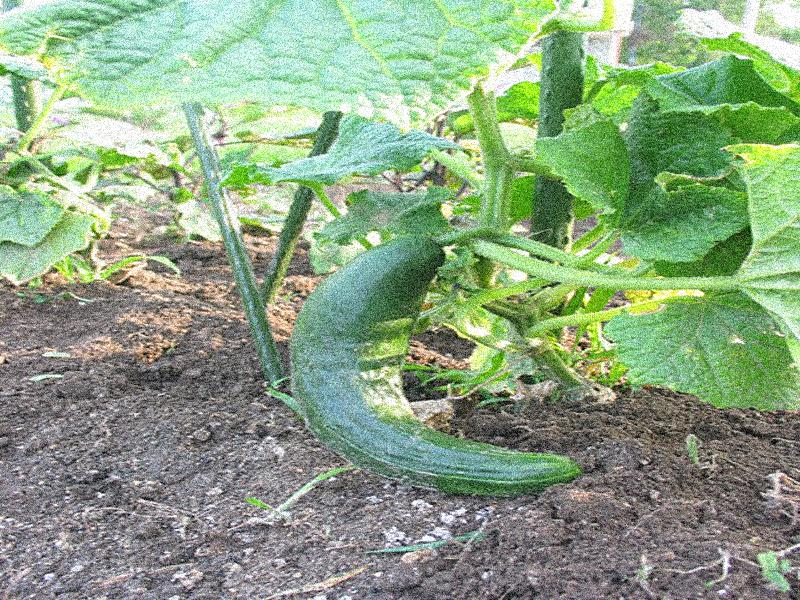Cucumber: (287, 234, 584, 497)
